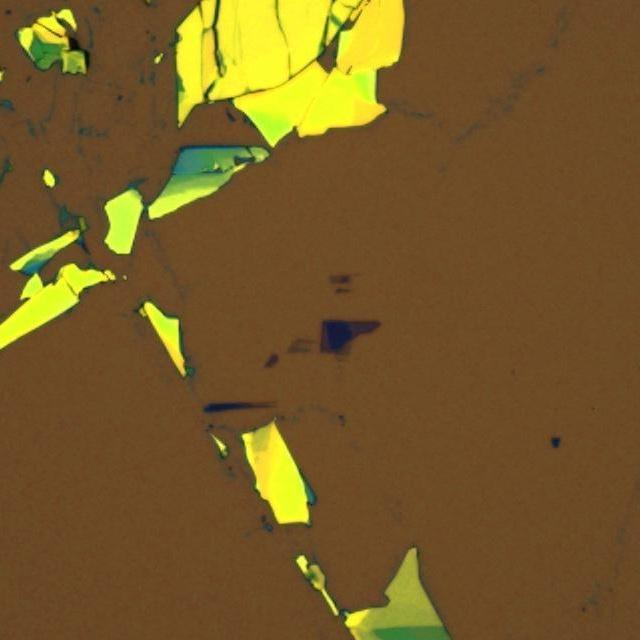monolayer-eWW4: (288, 342, 312, 354), (342, 343, 352, 356)
